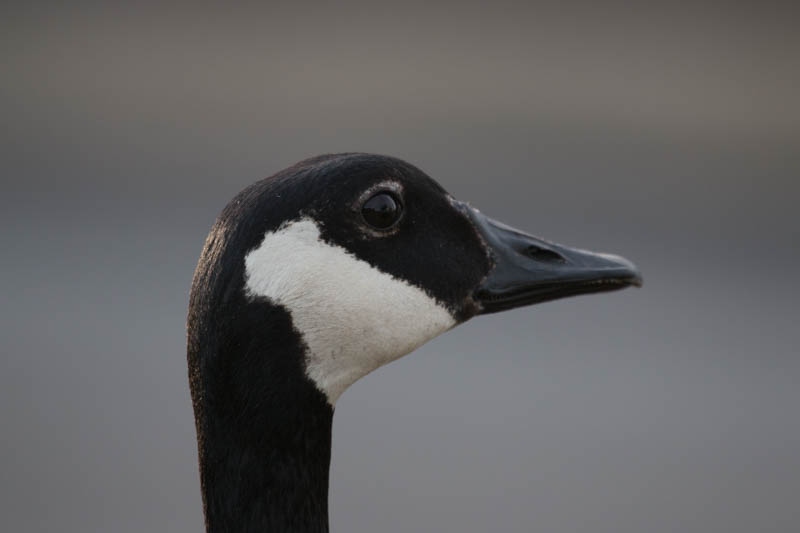goose-head: (185, 150, 644, 417)
